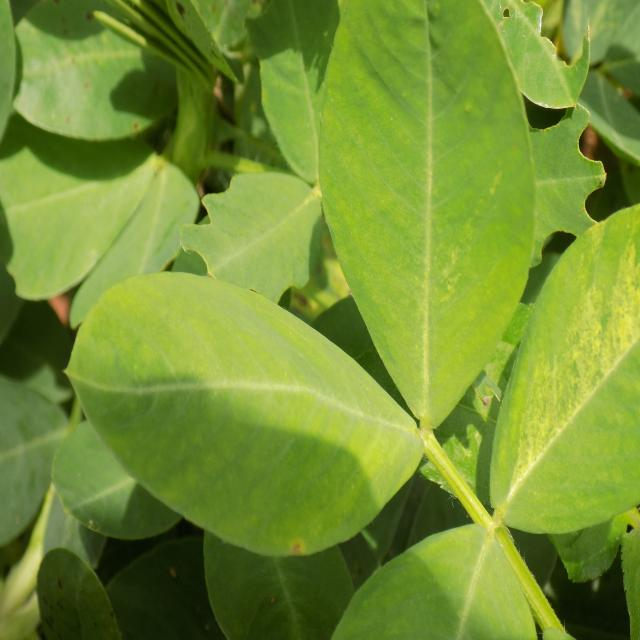Ground nut_healthy: (72, 272, 432, 552)
